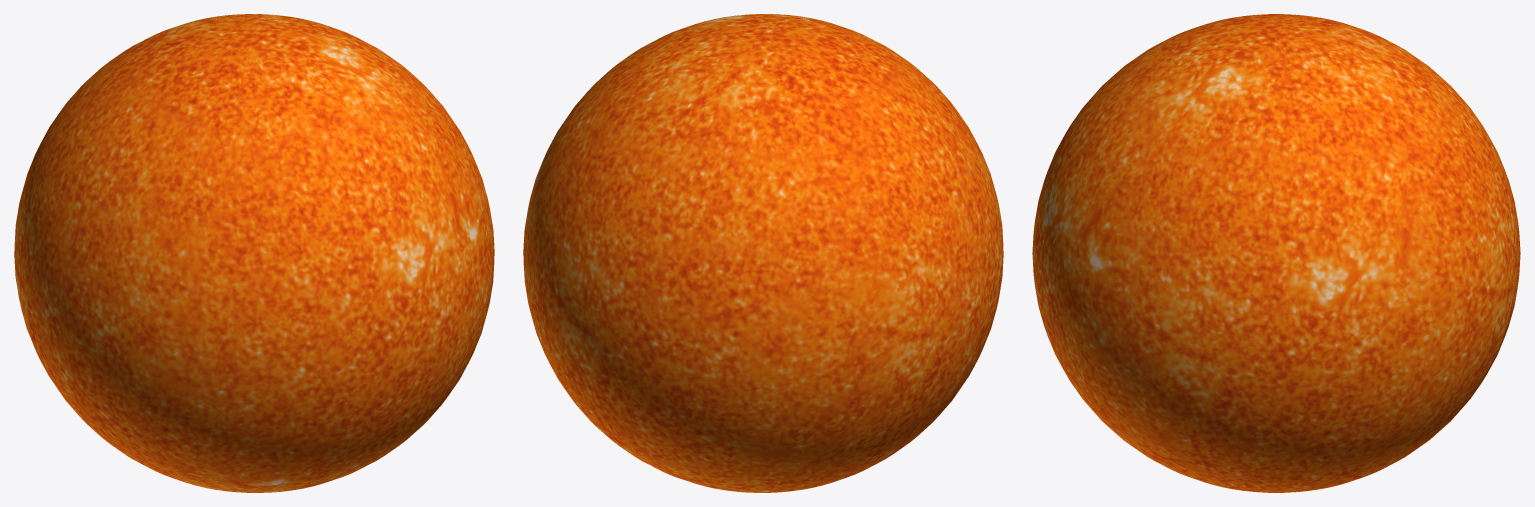
The model's file is Sol.obj.
3 renders of one model, left to right at view 1: azimuth 30°, elevation 25°; view 2: azimuth 150°, elevation 25°; view 3: azimuth 270°, elevation 25°, orthographic.
Parts seen in each view (by area): view 1: UnstableStarref; view 2: UnstableStarref; view 3: UnstableStarref.
Boxes of the visible parts, x1,y1,x2,y2 form: UnstableStarref: (14,14,494,492); UnstableStarref: (523,14,1003,492); UnstableStarref: (1032,14,1520,492).
Size of the model in its own units: 0.4528 by 0.4528 by 0.461.
2 materials, 2 textured.
